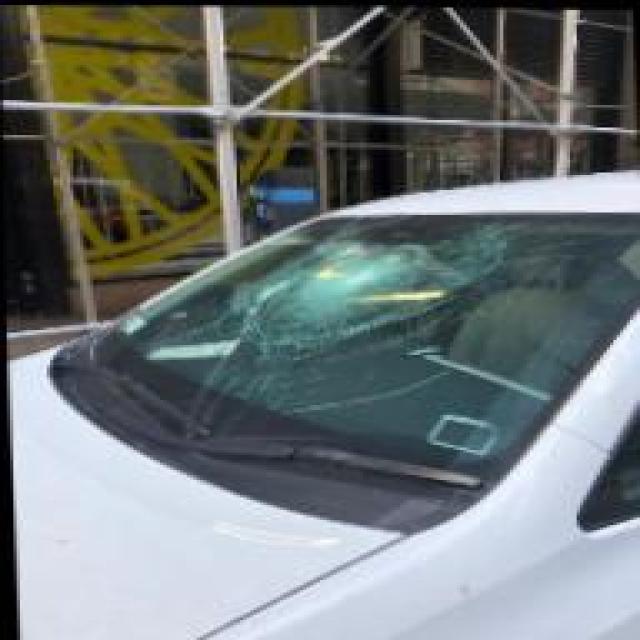Windshield: (80, 200, 640, 445)
